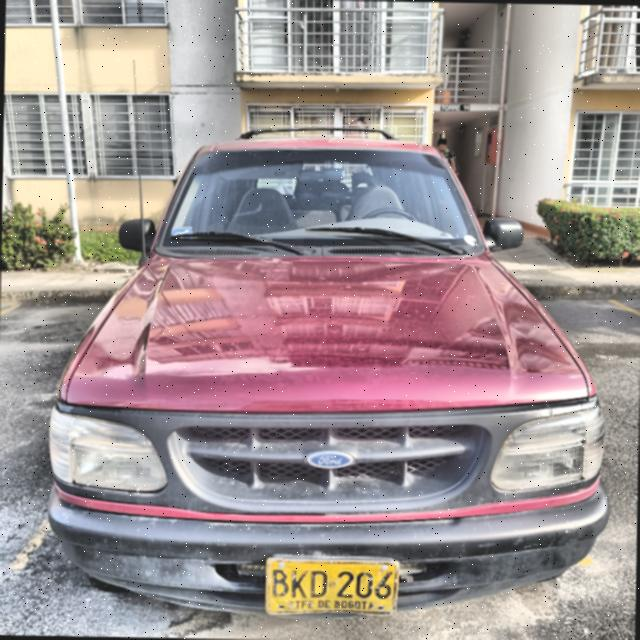plate: (269, 559, 396, 613)
